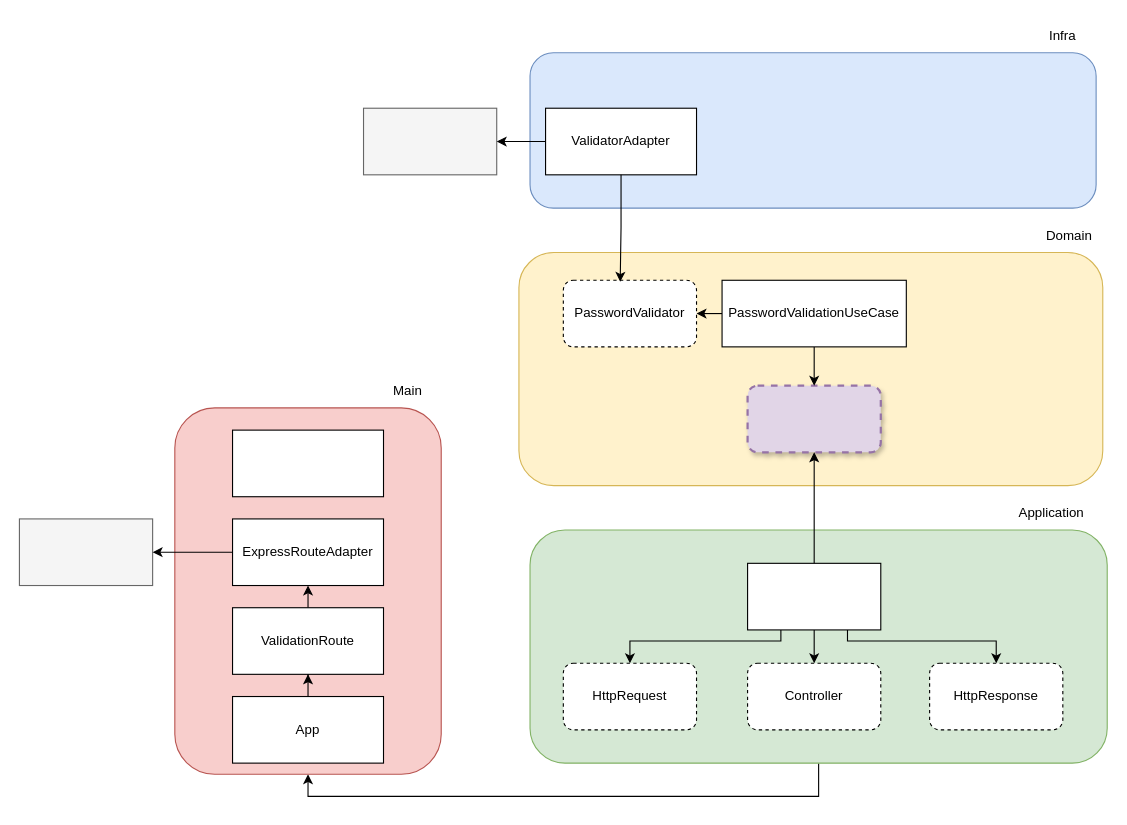
Image size: 1127x825. Some labels were removed from this diagram. Here are the shapes that lost their labels. From the top down, the centre of each, then its label:
At pixel 429 141: "Validator".
At pixel 814 420: "PasswordValidation".
At pixel 307 463: "ValidationComposer".
At pixel 85 552: "Express".
At pixel 813 596: "ValidationController".
